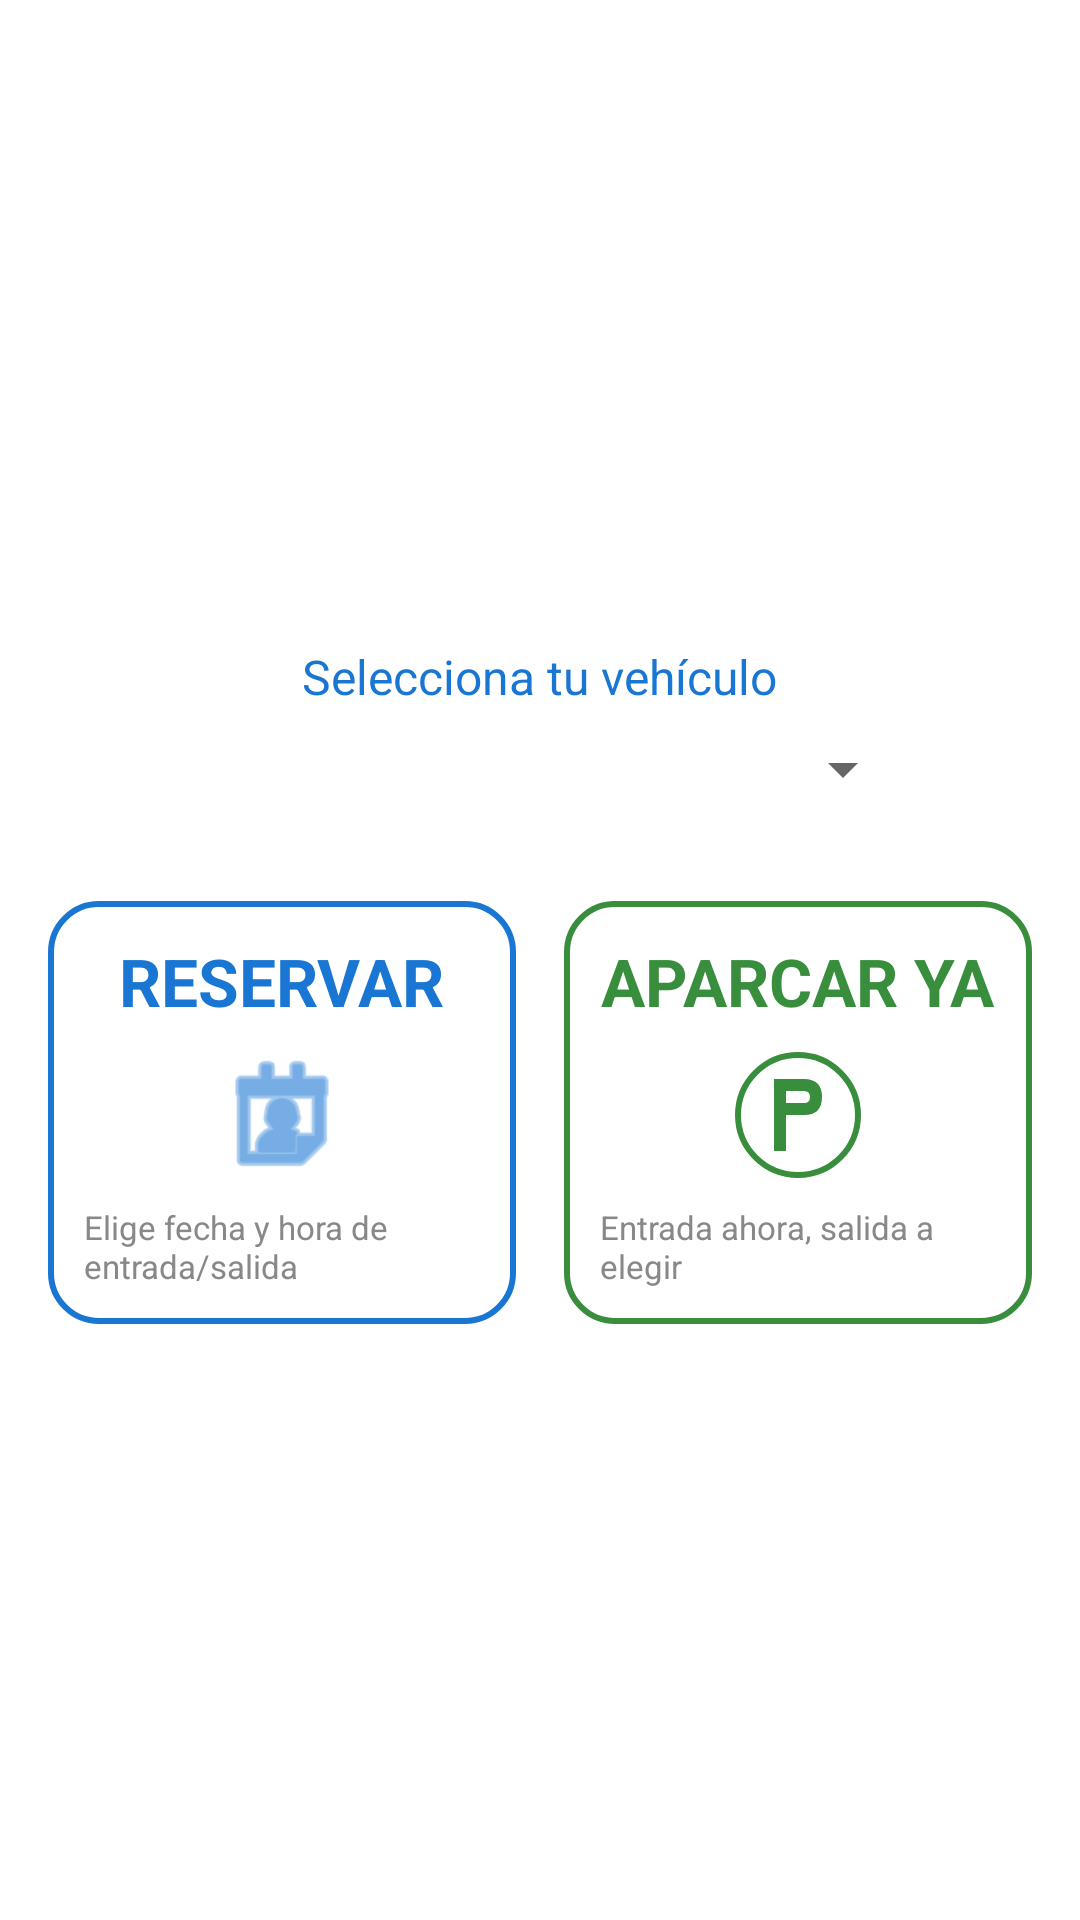

Icons on this 1080*1920 Android screen, each with its box as [x1, y1, x2, y2]:
calendar: [235, 1061, 329, 1166]
parking: [735, 1052, 861, 1178]
